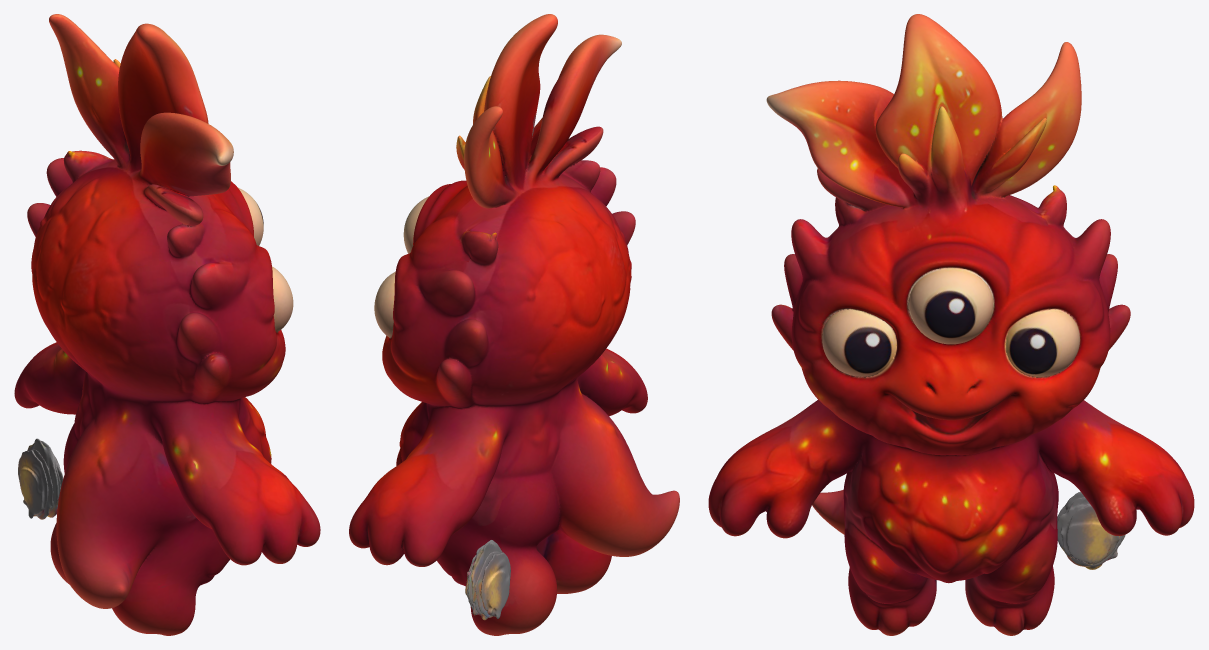
Rendered from sample_3d.glb.
3 views of the same model, side by side, from view 1: azimuth 30°, elevation 25°; view 2: azimuth 150°, elevation 25°; view 3: azimuth 270°, elevation 25° (orthographic). The views are drawn at different scales.
Parts seen in each view (by area): view 1: tripo_node_880d9d7e-37c9-4f59-b1a1-16b24d6f6ab5; view 2: tripo_node_880d9d7e-37c9-4f59-b1a1-16b24d6f6ab5; view 3: tripo_node_880d9d7e-37c9-4f59-b1a1-16b24d6f6ab5.
Boxes of the visible parts, box(x1,y1,x2,y2) form: tripo_node_880d9d7e-37c9-4f59-b1a1-16b24d6f6ab5: box(14, 14, 320, 635); tripo_node_880d9d7e-37c9-4f59-b1a1-16b24d6f6ab5: box(349, 14, 679, 635); tripo_node_880d9d7e-37c9-4f59-b1a1-16b24d6f6ab5: box(708, 14, 1194, 635).
Bounding box in the file's own units: 0.3958 × 1 × 0.7161.
1 material, 1 textured.
